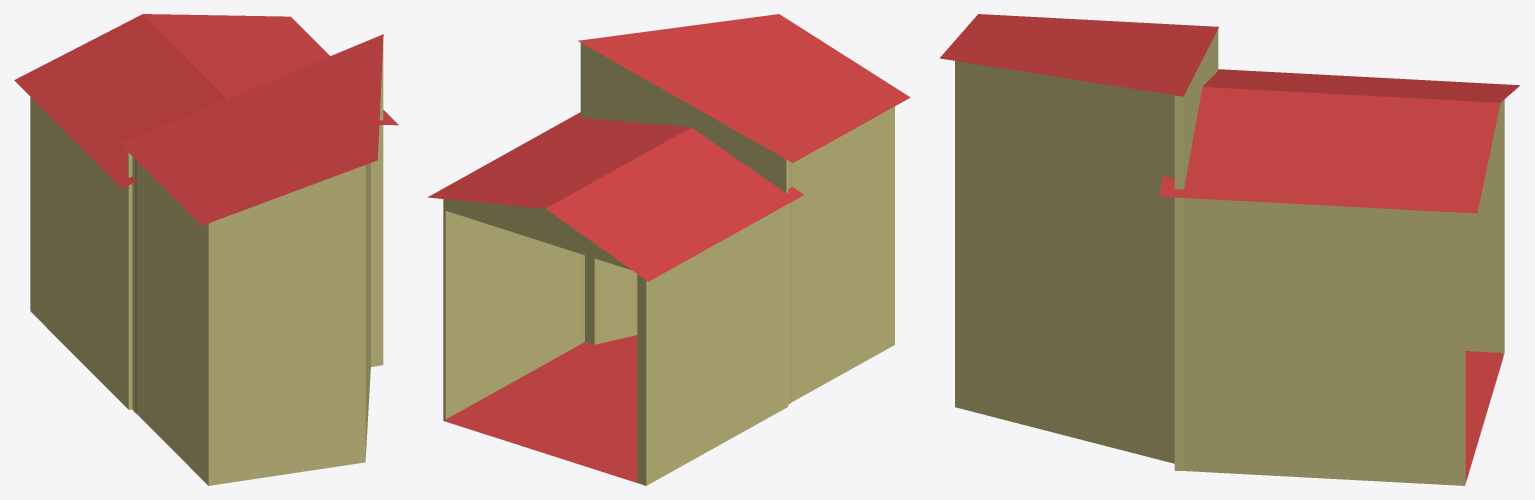
3 views of the same model, side by side, from view 1: azimuth 30°, elevation 25°; view 2: azimuth 150°, elevation 25°; view 3: azimuth 270°, elevation 25° (orthographic). The views are drawn at different scales.
Bounding box in the file's own units: 7.12 × 10.18 × 7.27.
